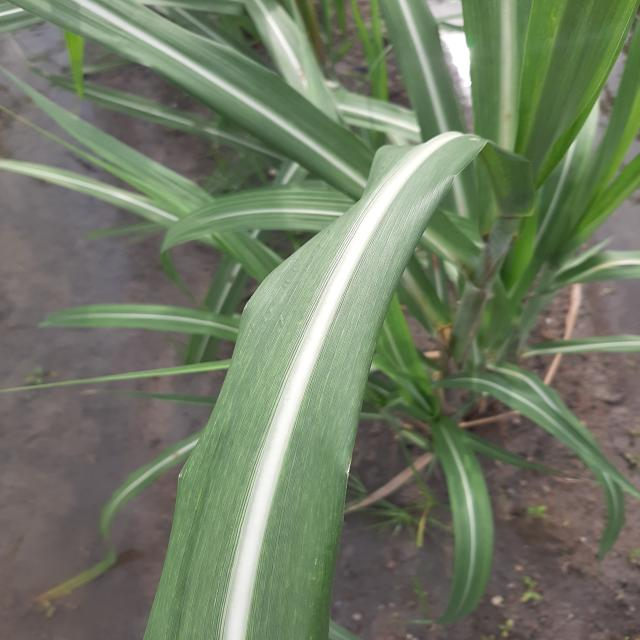Sugarcane: (2, 1, 638, 638), (141, 128, 490, 638)
